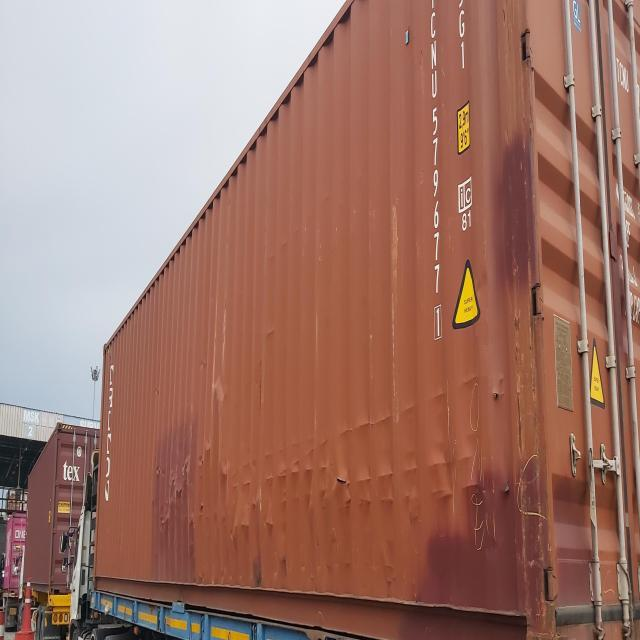hole: (336, 478, 348, 486)
